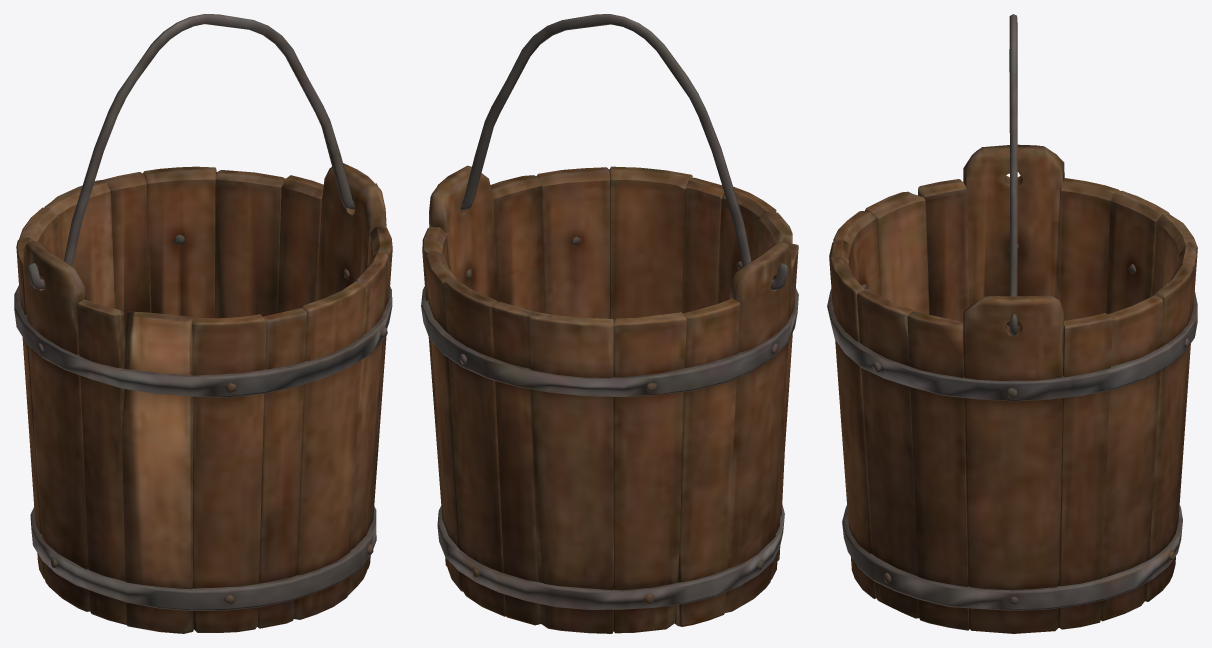
Rendered from wooden_bucket_01.glb.
3 renders of one model, left to right at view 1: azimuth 30°, elevation 25°; view 2: azimuth 150°, elevation 25°; view 3: azimuth 270°, elevation 25°, orthographic.
Parts seen in each view (by area): view 1: wooden_bucket_01, wooden_bucket_01_handle; view 2: wooden_bucket_01, wooden_bucket_01_handle; view 3: wooden_bucket_01, wooden_bucket_01_handle.
Boxes of the visible parts, bbox=[...] form: wooden_bucket_01: bbox=[14, 163, 392, 633]; wooden_bucket_01_handle: bbox=[28, 14, 377, 289]; wooden_bucket_01: bbox=[421, 165, 798, 633]; wooden_bucket_01_handle: bbox=[437, 14, 787, 290]; wooden_bucket_01: bbox=[827, 144, 1197, 633]; wooden_bucket_01_handle: bbox=[1009, 14, 1017, 335].
Bounding box in the file's own units: 0.367 × 0.5499 × 0.3419.
1 material, 1 textured.
